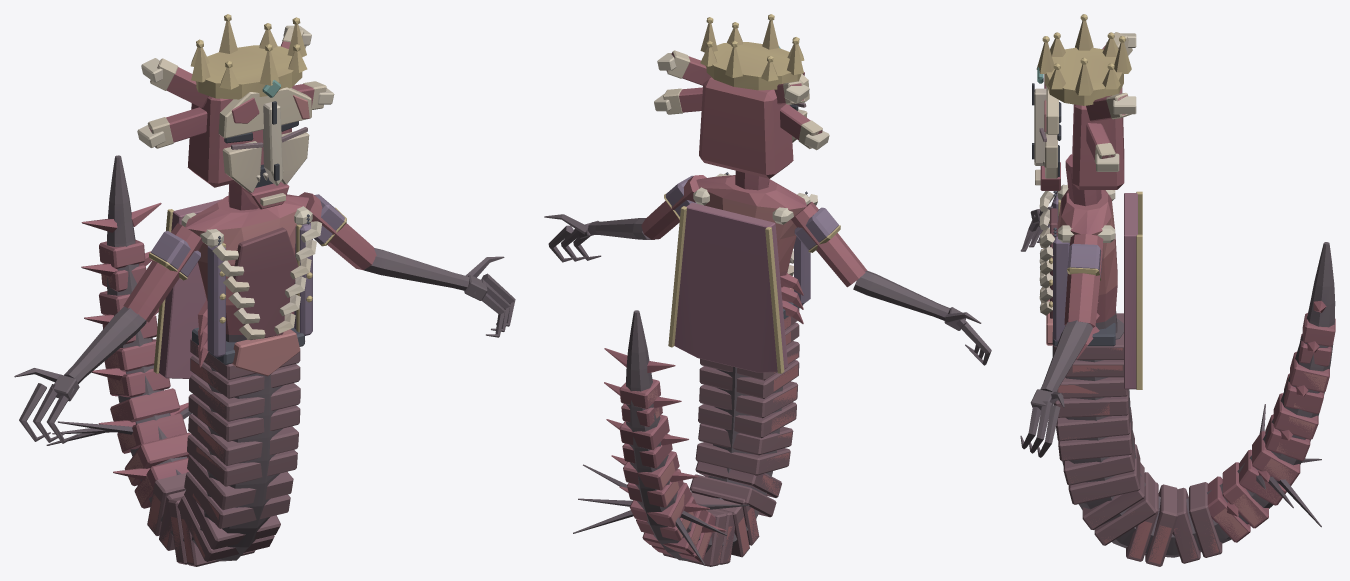
The model's file is DredgeKing.glb.
3 views of the same model, side by side, from view 1: azimuth 30°, elevation 25°; view 2: azimuth 150°, elevation 25°; view 3: azimuth 270°, elevation 25° (orthographic). The views are drawn at different scales.
Parts seen in each view (by area): view 1: Body, Head, ArmR, ArmL; view 2: Body, Head, ArmR, ArmL; view 3: Body, Head, ArmL, ArmR.
Boxes of the visible parts, left/top/right/bottom form: Body: left=46, top=155, right=321, bottom=566; Head: left=137, top=14, right=334, bottom=210; ArmR: left=14, top=223, right=202, bottom=443; ArmL: left=299, top=192, right=515, bottom=337; Body: left=573, top=172, right=817, bottom=566; Head: left=654, top=14, right=829, bottom=190; ArmR: left=791, top=202, right=991, bottom=365; ArmL: left=544, top=175, right=706, bottom=262; Body: left=1039, top=185, right=1335, bottom=566; Head: left=1032, top=14, right=1136, bottom=206; ArmL: left=1020, top=234, right=1103, bottom=457; ArmR: left=1020, top=184, right=1063, bottom=251.
Bounding box in the file's own units: 6.83 × 7.36 × 4.04.
